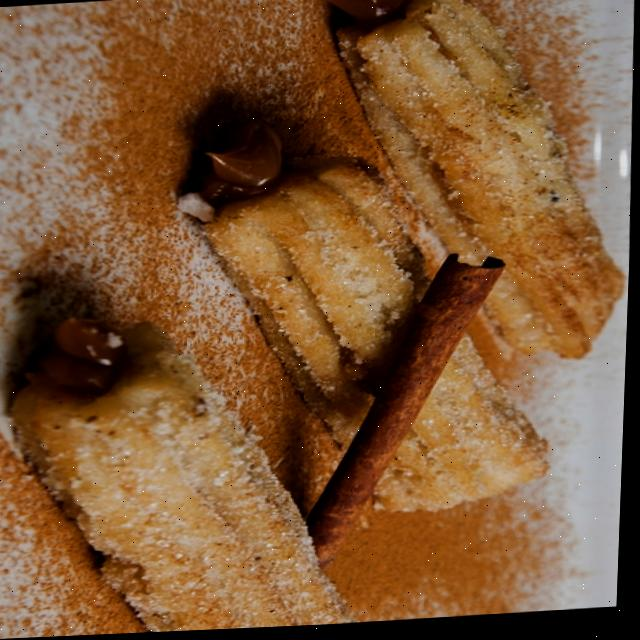炸货点心: (4, 0, 640, 624)
